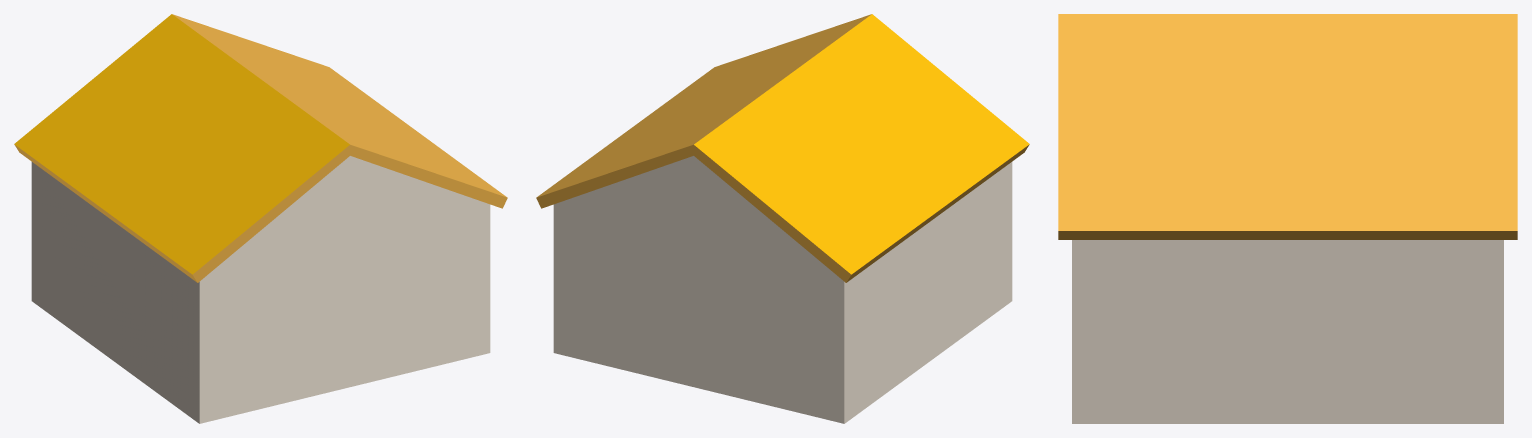
Rendered from Map_house_Y_Low.fbx.
3 views of the same model, side by side, from view 1: azimuth 30°, elevation 25°; view 2: azimuth 150°, elevation 25°; view 3: azimuth 270°, elevation 25° (orthographic). The views are drawn at different scales.
Visible parts, largest first — view 1: Map_house_Y_Low; view 2: Map_house_Y_Low; view 3: Map_house_Y_Low.
Boxes of the visible parts, left/top/right/bottom form: Map_house_Y_Low: left=14, top=14, right=507, bottom=423; Map_house_Y_Low: left=536, top=14, right=1029, bottom=423; Map_house_Y_Low: left=1058, top=14, right=1517, bottom=423.
Bounding box in the file's own units: 1.3 × 0.975 × 1.27.
